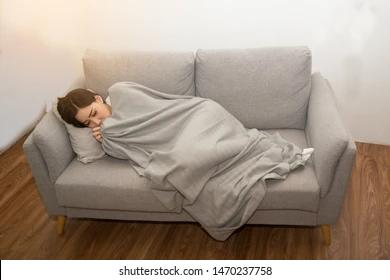blanket: (98, 79, 311, 245)
